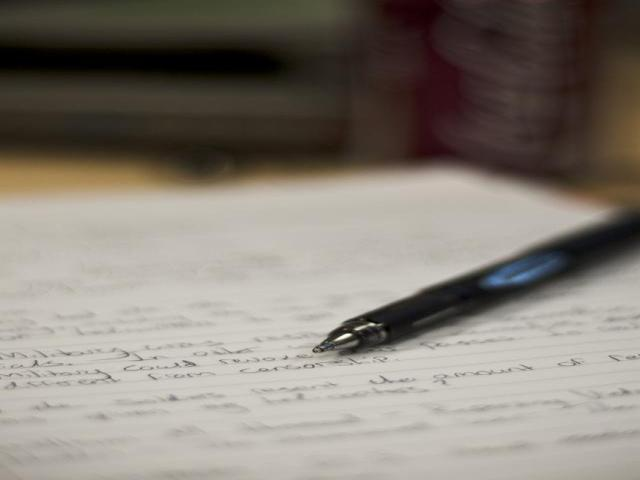PEN: (296, 219, 640, 357)
